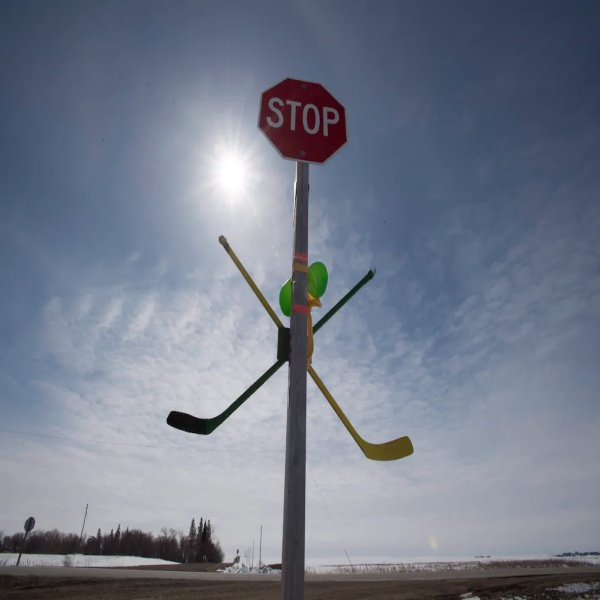stop: (256, 73, 358, 163)
